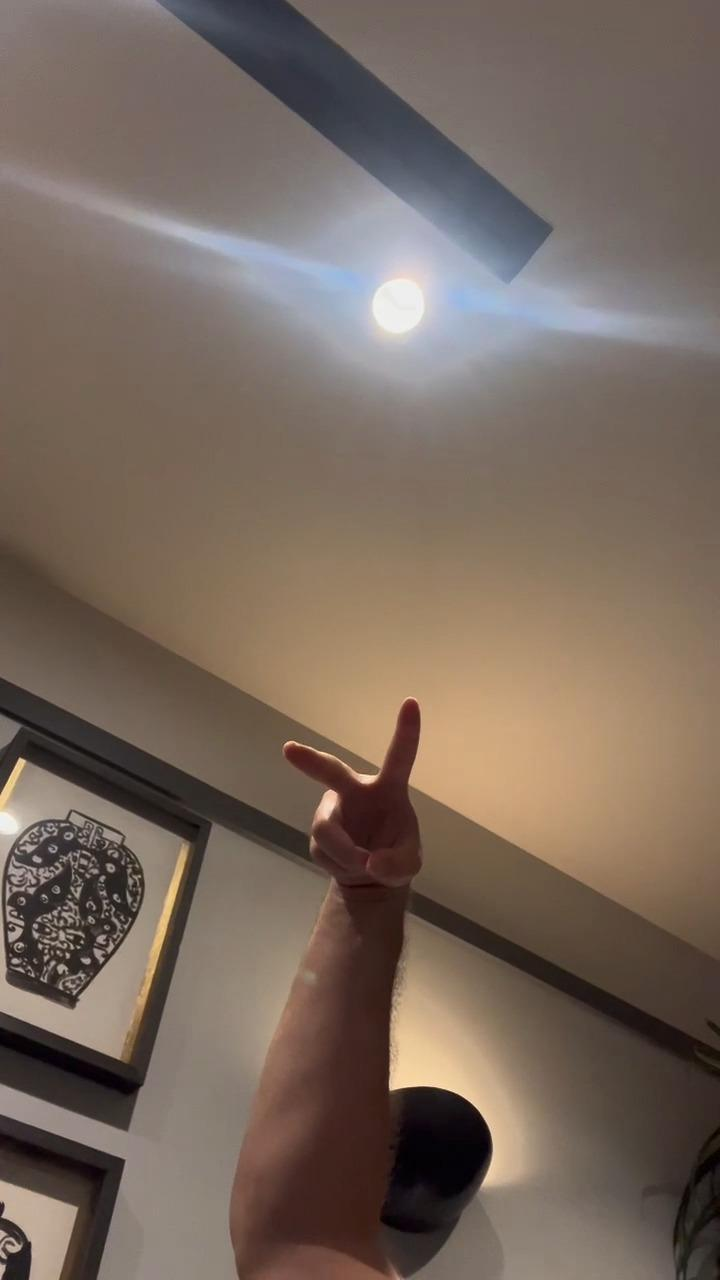Scissors: (284, 698, 425, 885)
